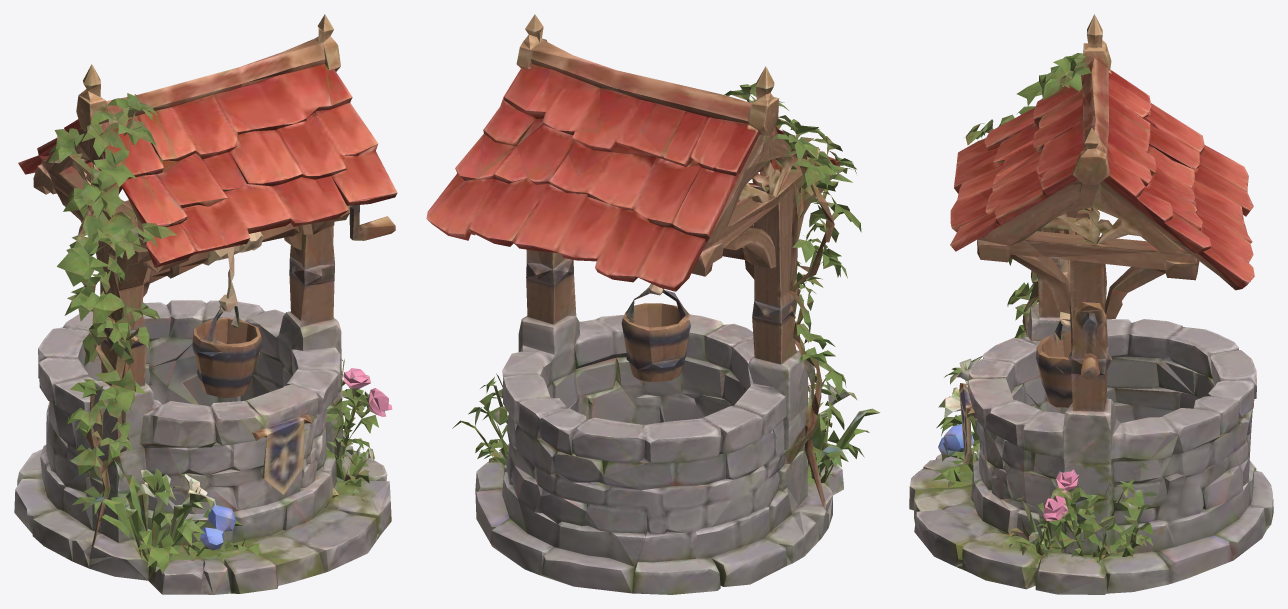
File: town_well.glb
The picture shows the model from 3 angles, left to right: view 1: azimuth 30°, elevation 25°; view 2: azimuth 150°, elevation 25°; view 3: azimuth 270°, elevation 25°; orthographic projection. The views are drawn at different scales.
Parts seen in each view (by area): view 1: output_unwrapped; view 2: output_unwrapped; view 3: output_unwrapped.
Part boxes in pixels (x1=…): output_unwrapped: x1=14, y1=14, x2=397, y2=594; output_unwrapped: x1=426, y1=14, x2=880, y2=594; output_unwrapped: x1=909, y1=14, x2=1273, y2=594.
Size of the model in its own units: 1.51 by 1.9 by 1.38.
1 material, 1 textured.
